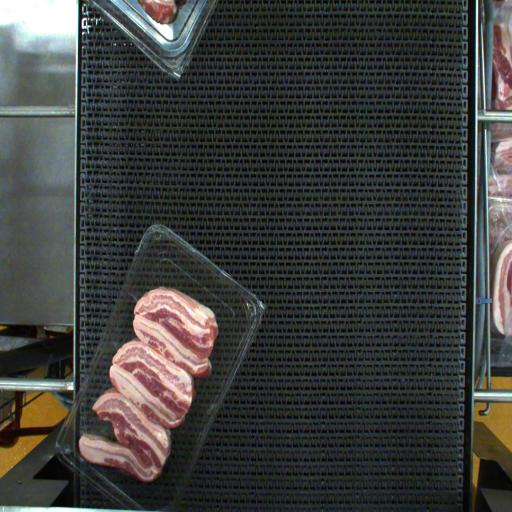loose-meat: (73, 425, 121, 479)
